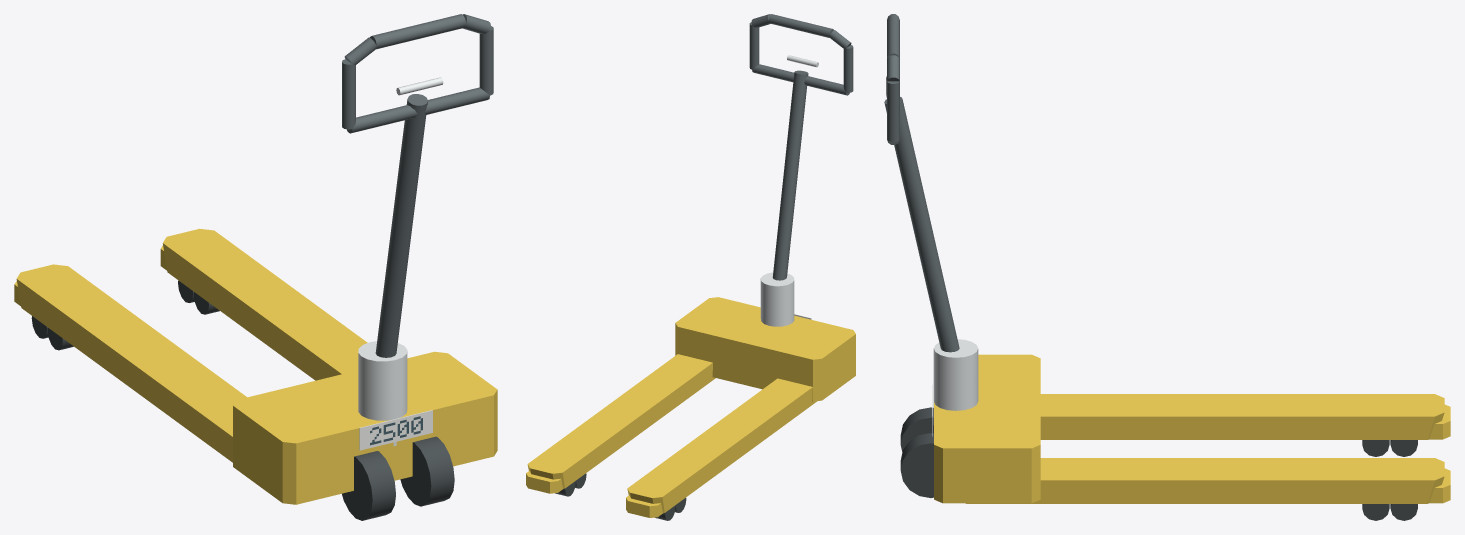
Rendered from palletTruck.glb.
3 views of the same model, side by side, from view 1: azimuth 30°, elevation 25°; view 2: azimuth 150°, elevation 25°; view 3: azimuth 270°, elevation 25° (orthographic). The views are drawn at different scales.
Parts seen in each view (by area): view 1: Manuell palltruck; view 2: Manuell palltruck; view 3: Manuell palltruck.
Boxes of the visible parts, x1,y1,x2,y2 form: Manuell palltruck: [14, 14, 497, 520]; Manuell palltruck: [526, 14, 855, 520]; Manuell palltruck: [884, 14, 1450, 520].
Bounding box in the file's own units: 0.55 × 1.22 × 1.4.
